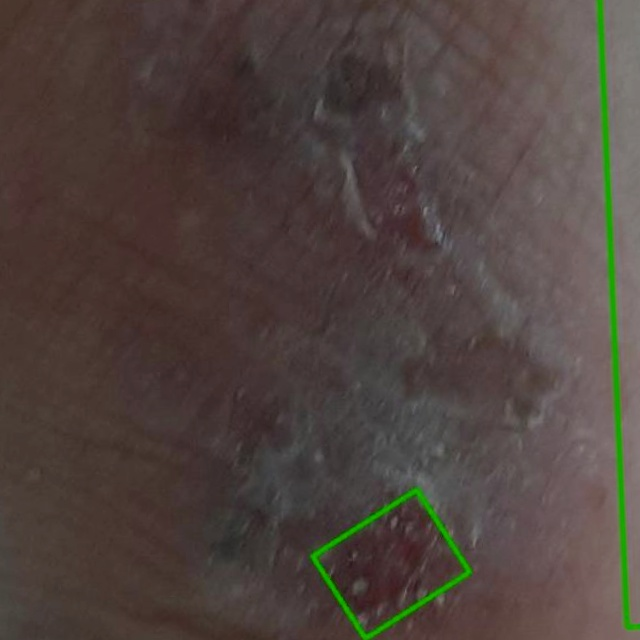Eczema: (312, 489, 470, 639)
